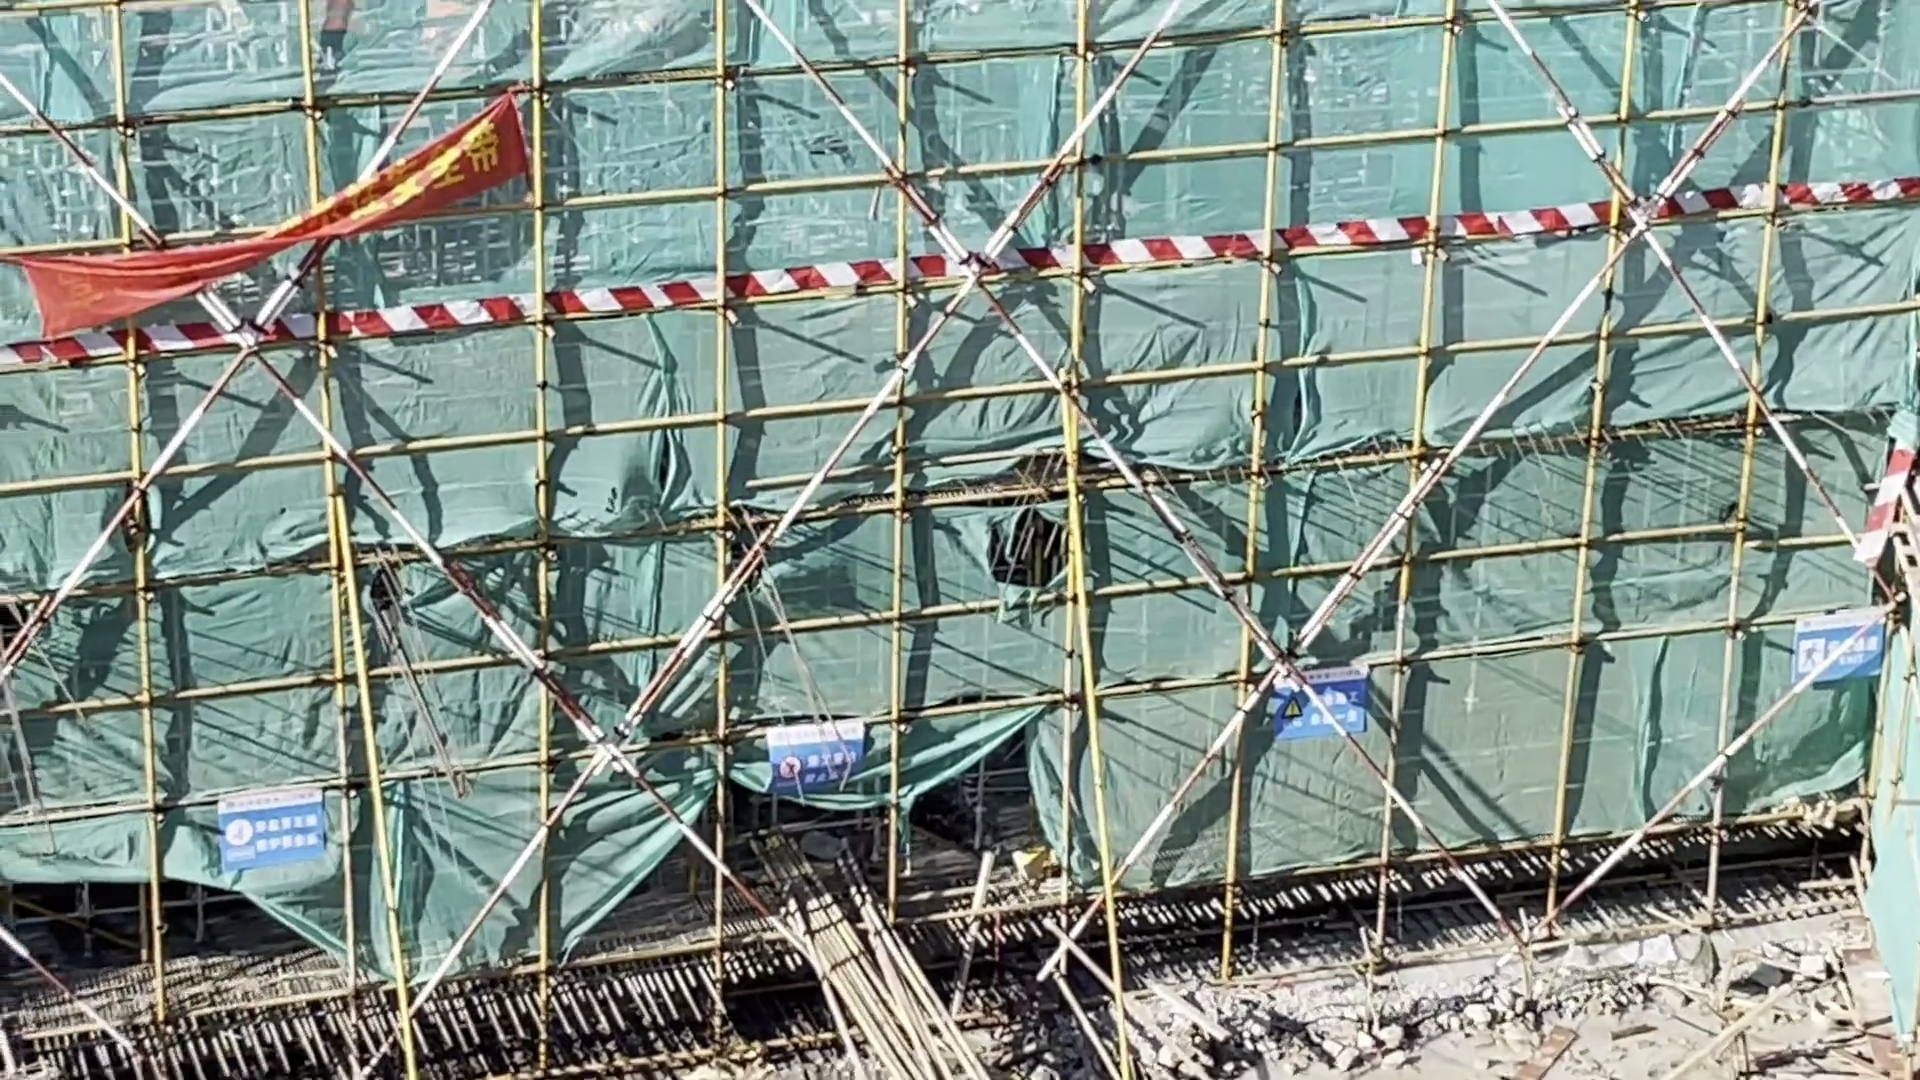slogan: (4, 36, 588, 351), (206, 771, 377, 886), (1265, 636, 1373, 750), (760, 703, 874, 800), (1782, 601, 1900, 695)
